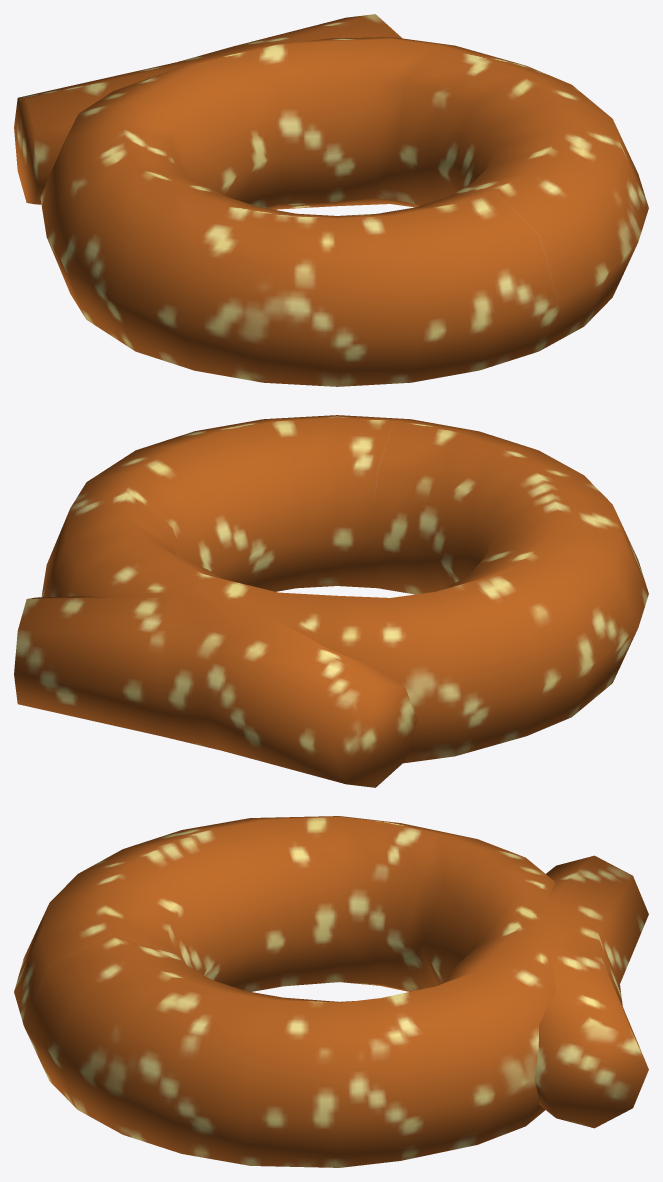
The model's file is KRENDEL.fbx.
3 views of the same model, one above another, from view 1: azimuth 30°, elevation 25°; view 2: azimuth 150°, elevation 25°; view 3: azimuth 270°, elevation 25° (orthographic).
Parts seen in each view (by area): view 1: FLOAT_KRENDEL; view 2: FLOAT_KRENDEL; view 3: FLOAT_KRENDEL.
Boxes of the visible parts, <box> form: FLOAT_KRENDEL: <box>14,14,648,386</box>; FLOAT_KRENDEL: <box>14,415,648,787</box>; FLOAT_KRENDEL: <box>14,816,648,1167</box>.
Size of the model in its own units: 167 by 49.93 by 175.
